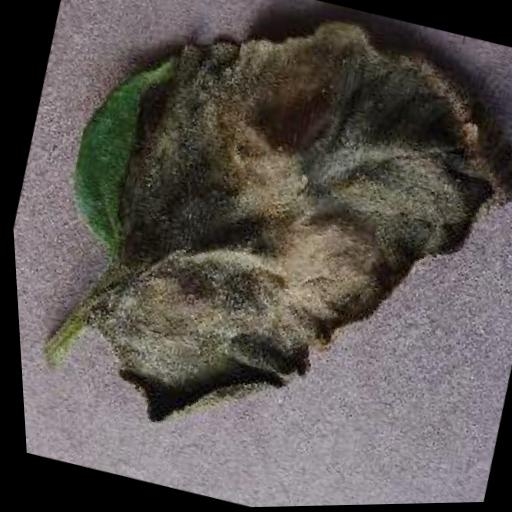Late Blight: (6, 0, 512, 512)
